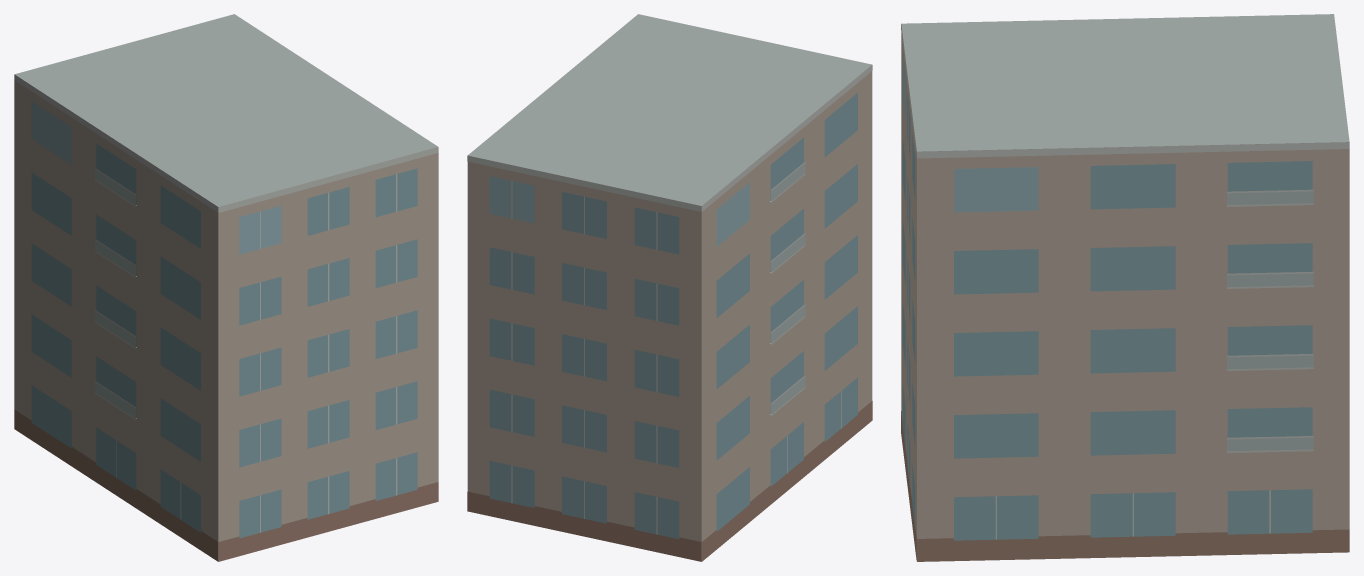
File: survey-upis-32870502.glb
3 views of the same model, side by side, from view 1: azimuth 30°, elevation 25°; view 2: azimuth 150°, elevation 25°; view 3: azimuth 270°, elevation 25° (orthographic). The views are drawn at different scales.
Visible parts, largest first — view 1: survey-upis-32870502.tmp; view 2: survey-upis-32870502.tmp; view 3: survey-upis-32870502.tmp.
Part boxes in pixels (box(x1,y1,x2,y2)): survey-upis-32870502.tmp: box(14, 14, 438, 561); survey-upis-32870502.tmp: box(467, 14, 872, 561); survey-upis-32870502.tmp: box(901, 14, 1349, 561).
Bounding box in the file's own units: 10.44 × 14.5 × 14.37.
